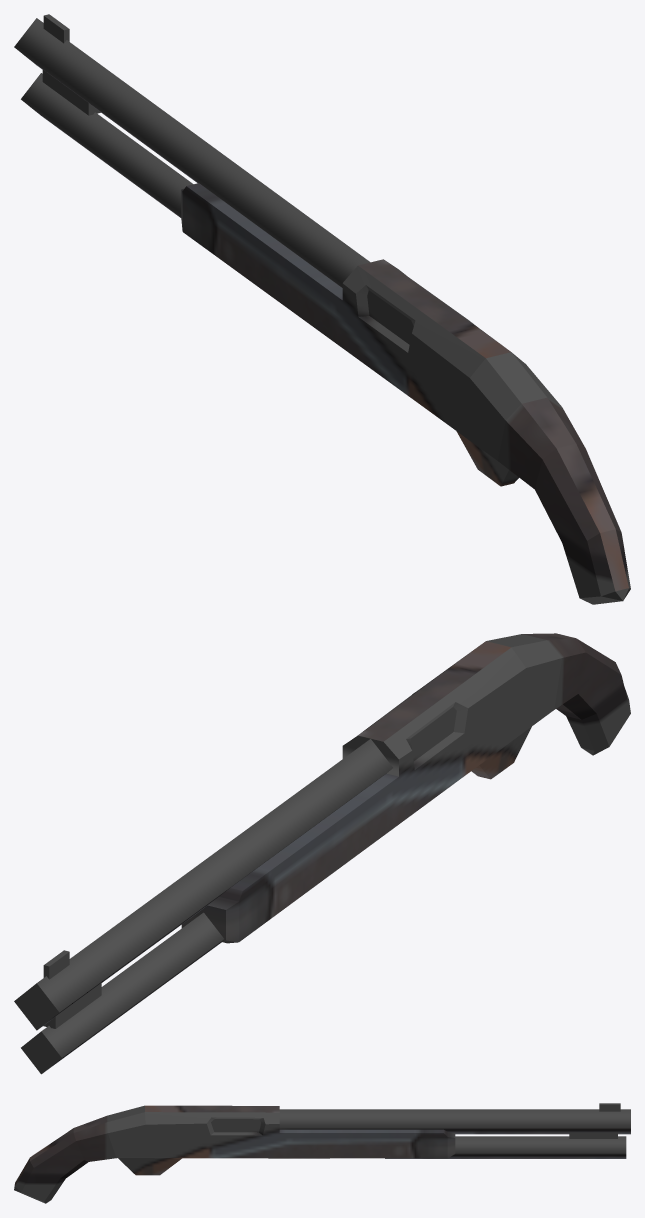
Rendered from bz_wp_shotgun_01.fbx.
The picture shows the model from 3 angles, top to bottom: view 1: azimuth 30°, elevation 25°; view 2: azimuth 150°, elevation 25°; view 3: azimuth 270°, elevation 25°; orthographic projection. The views are drawn at different scales.
Parts seen in each view (by area): view 1: bz_wp_shotgun_01; view 2: bz_wp_shotgun_01; view 3: bz_wp_shotgun_01.
Part boxes in pixels (x1,y1,x2,y2): bz_wp_shotgun_01: (14, 14, 630, 604); bz_wp_shotgun_01: (14, 633, 630, 1074); bz_wp_shotgun_01: (14, 1103, 630, 1203).
Size of the model in its own units: 0.0446 by 0.1437 by 0.8049.
